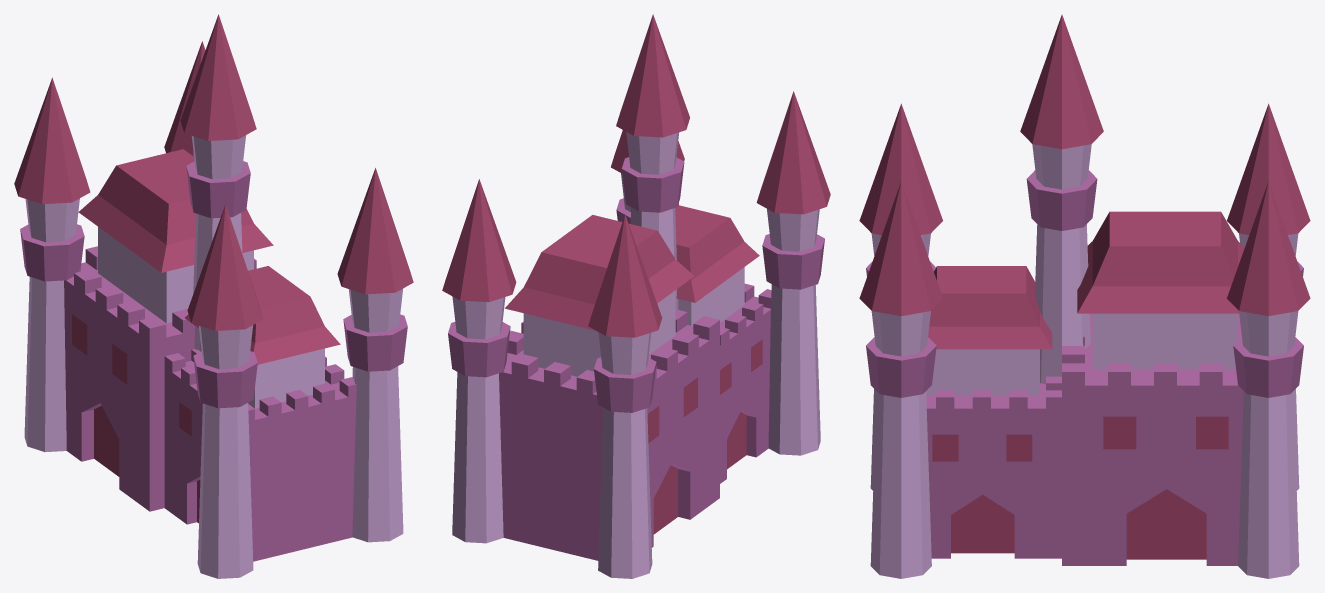
File: AmusementPark.fbx
3 views of the same model, side by side, from view 1: azimuth 30°, elevation 25°; view 2: azimuth 150°, elevation 25°; view 3: azimuth 270°, elevation 25° (orthographic). The views are drawn at different scales.
Visible parts, largest first — view 1: Base.004, Base.003, Tower.002, Tower.003, Tower, Tower.004, Tower.001; view 2: Base.004, Tower, Tower.002, Tower.001, Base.003, Tower.004, Tower.003; view 3: Base.004, Base.003, Tower.001, Tower.003, Tower.004, Tower.002, Tower.
Boxes of the visible parts, x1,y1,x2,y2 form: Base.004: [64, 149, 273, 511]; Base.003: [164, 266, 356, 561]; Tower.002: [187, 204, 263, 578]; Tower.003: [337, 168, 413, 542]; Tower: [14, 77, 90, 452]; Tower.004: [180, 14, 256, 350]; Tower.001: [164, 41, 205, 156]; Base.004: [499, 215, 719, 560]; Tower: [588, 214, 662, 578]; Tower.002: [756, 91, 830, 455]; Tower.001: [442, 179, 516, 543]; Base.003: [675, 205, 771, 483]; Tower.004: [616, 14, 689, 309]; Tower.003: [611, 130, 684, 223]; Base.004: [1062, 211, 1244, 565]; Base.003: [926, 266, 1061, 558]; Tower.001: [1227, 181, 1310, 578]; Tower.003: [859, 181, 942, 578]; Tower.004: [1020, 14, 1103, 384]; Tower.002: [859, 103, 942, 490]; Tower: [1227, 103, 1310, 490].
Bounding box in the file's own units: 3495 × 7357 × 5895.
